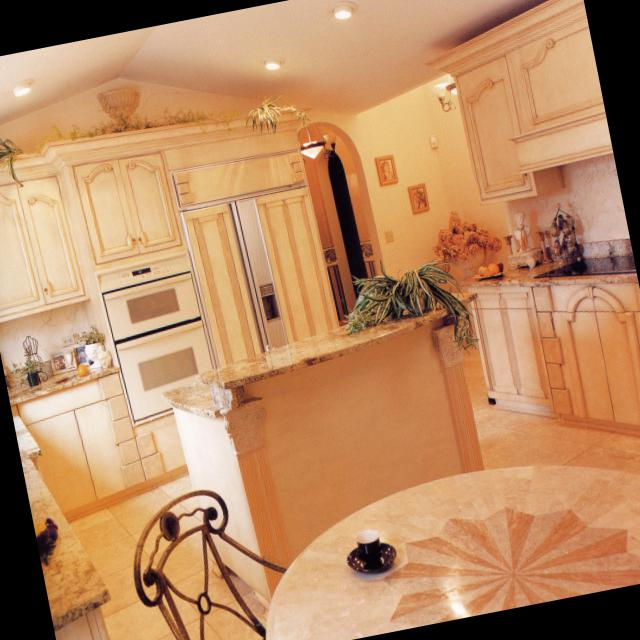bust: (506, 212, 543, 270)
chair -occluded-: (132, 488, 286, 640)
cupboard crop: (74, 152, 183, 265)
oven cloth: (93, 252, 213, 424)
painting crop: (375, 154, 399, 186), (409, 182, 430, 215)
plant -x: (342, 258, 478, 352)
refrigerator: (184, 185, 338, 366)
table -X: (266, 467, 640, 640)
